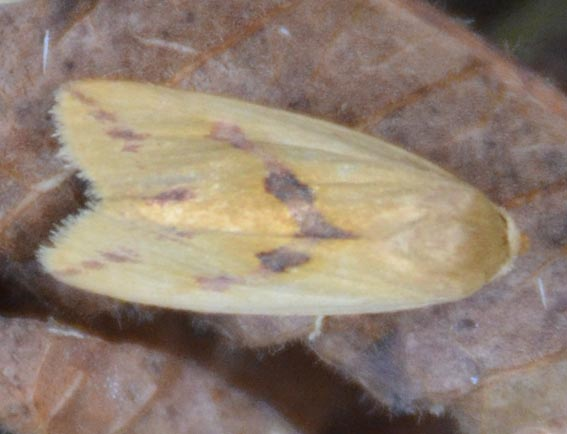Noctuidae: (36, 79, 527, 320)
